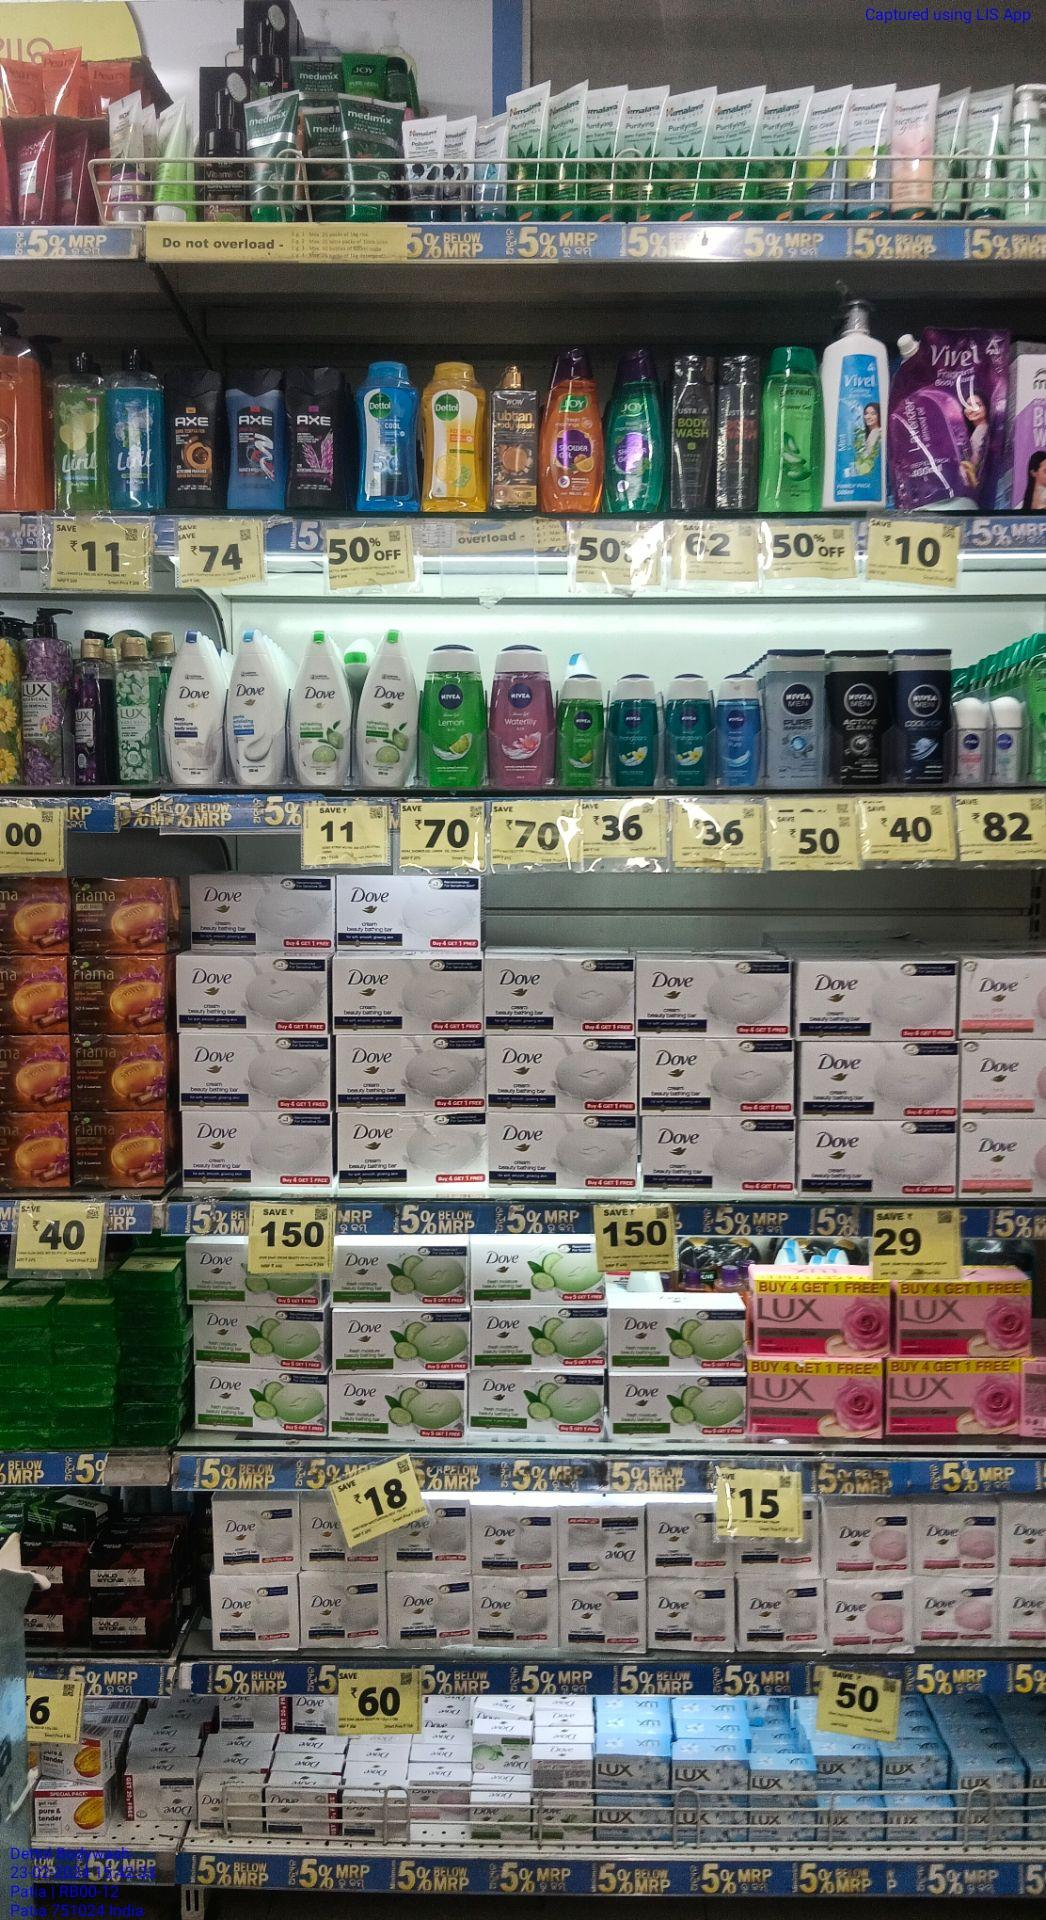Dettol_Bodywash_Cool: (354, 363, 420, 515)
Dettol_Bodywash_Refresh: (424, 362, 486, 511)
Dove_Deep_Moisture_Body_Wash_250ML: (166, 634, 222, 788)
Dove_Gentle_Exfoliating_Body_Wash_250ML: (228, 635, 287, 786)
Dove_Refreshing_Body_Wash_250ML: (353, 636, 419, 788), (289, 635, 350, 788)
Joy_Shower_Gel_Mandarin_and_Lemongrass_250ML: (538, 349, 605, 516)
Joy_Shower_Gel_Mint_and_Eucalyptus_250ML: (609, 353, 667, 514)
Liril_Cooling_Mint_Body_Wash_250ML: (109, 350, 161, 510)
Liril_Lime_and_Tea_Tree_Oil_Body_Wash_250ML: (52, 357, 109, 516)
Lux_Black_Orchid_Scent_and_Juniper_Oil_Body_Wash_245ML: (73, 637, 115, 783)
Lux_Body_Wash_Skin_Detox_Freesia_Scent_and_Alove_Vera_245ML: (119, 640, 162, 783)
Nivea_Shower_Gel_Frangipani_and_Oil_250ML: (665, 679, 715, 792), (608, 679, 658, 786)
Nivea_Shower_Gel_Lemon_and_Oil_250ML: (423, 649, 486, 791), (558, 675, 605, 789)
Nivea_Shower_Gel_Waterlily_and_Oil_250ML: (491, 652, 554, 789)
